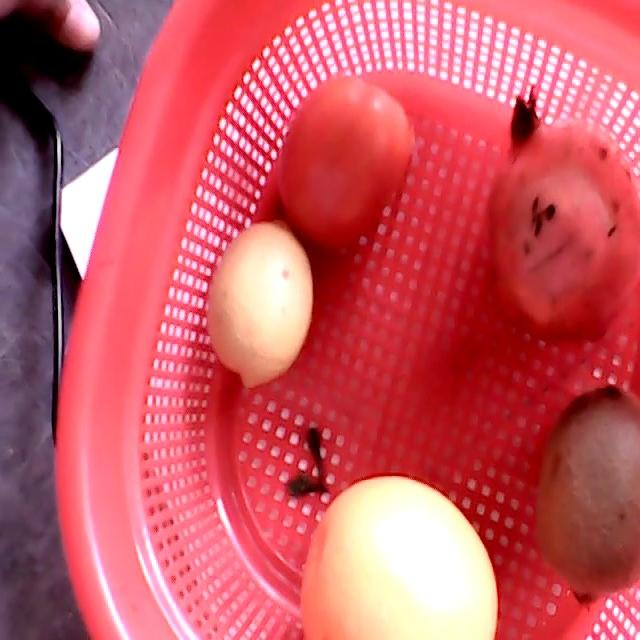kiwi: (536, 385, 639, 606)
lemon: (207, 217, 314, 388)
orange: (299, 475, 499, 638)
pomegranate: (487, 84, 639, 343)
tomato: (279, 77, 415, 254)
